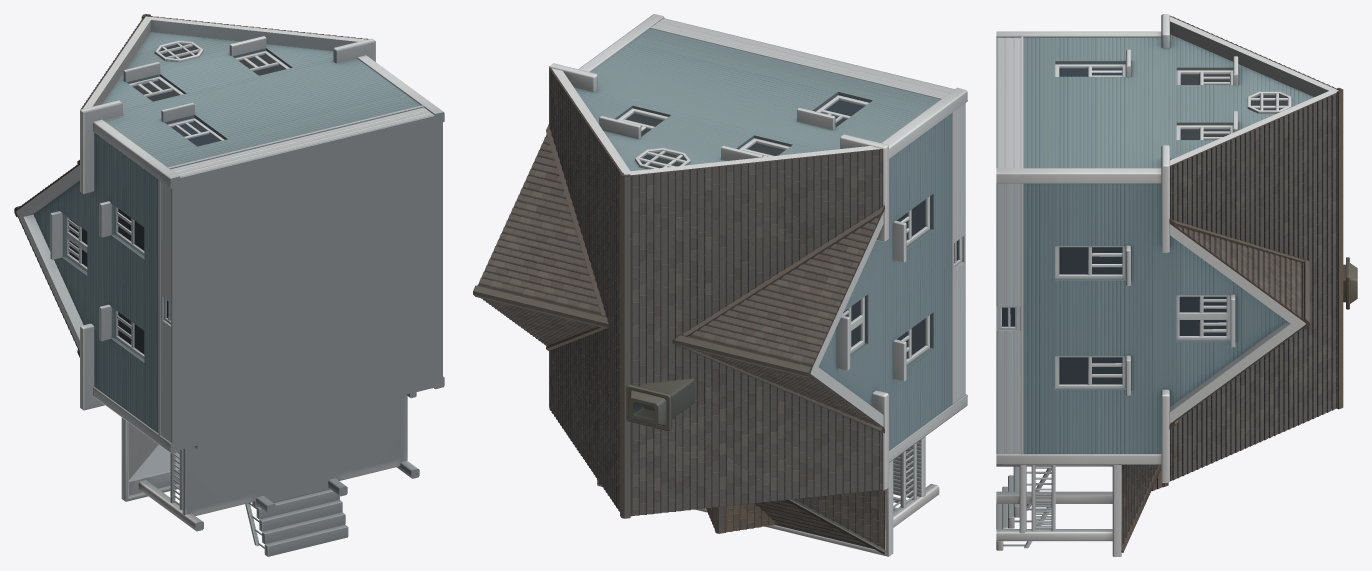
The model's file is House.fbx.
3 views of the same model, side by side, from view 1: azimuth 30°, elevation 25°; view 2: azimuth 150°, elevation 25°; view 3: azimuth 270°, elevation 25° (orthographic). The views are drawn at different scales.
Parts seen in each view (by area): view 1: node_id115; view 2: node_id115; view 3: node_id115.
Boxes of the visible parts, left/top/right/bottom form: node_id115: left=14, top=14, right=444, bottom=556; node_id115: left=473, top=14, right=967, bottom=556; node_id115: left=996, top=14, right=1357, bottom=556.
Bounding box in the file's own units: 6046 × 8156 × 6065.
Materials: 1 (1 with a texture image).
